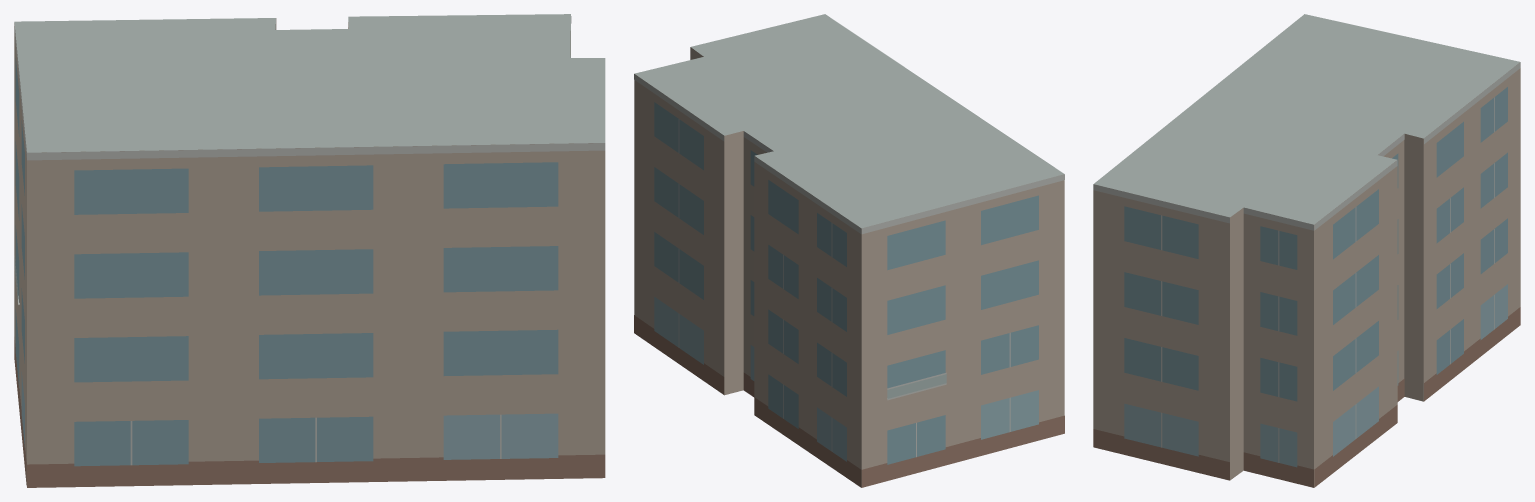
File: survey-upis-32488673.glb
The picture shows the model from 3 angles, left to right: view 1: azimuth 30°, elevation 25°; view 2: azimuth 150°, elevation 25°; view 3: azimuth 270°, elevation 25°; orthographic projection. The views are drawn at different scales.
Visible parts, largest first — view 1: survey-upis-32488673.tmp; view 2: survey-upis-32488673.tmp; view 3: survey-upis-32488673.tmp.
Part boxes in pixels (box(x1,y1,x2,y2)): survey-upis-32488673.tmp: box(14, 14, 605, 487); survey-upis-32488673.tmp: box(634, 14, 1064, 487); survey-upis-32488673.tmp: box(1093, 14, 1520, 487).
Size of the model in its own units: 18.22 by 10.6 by 15.6.
